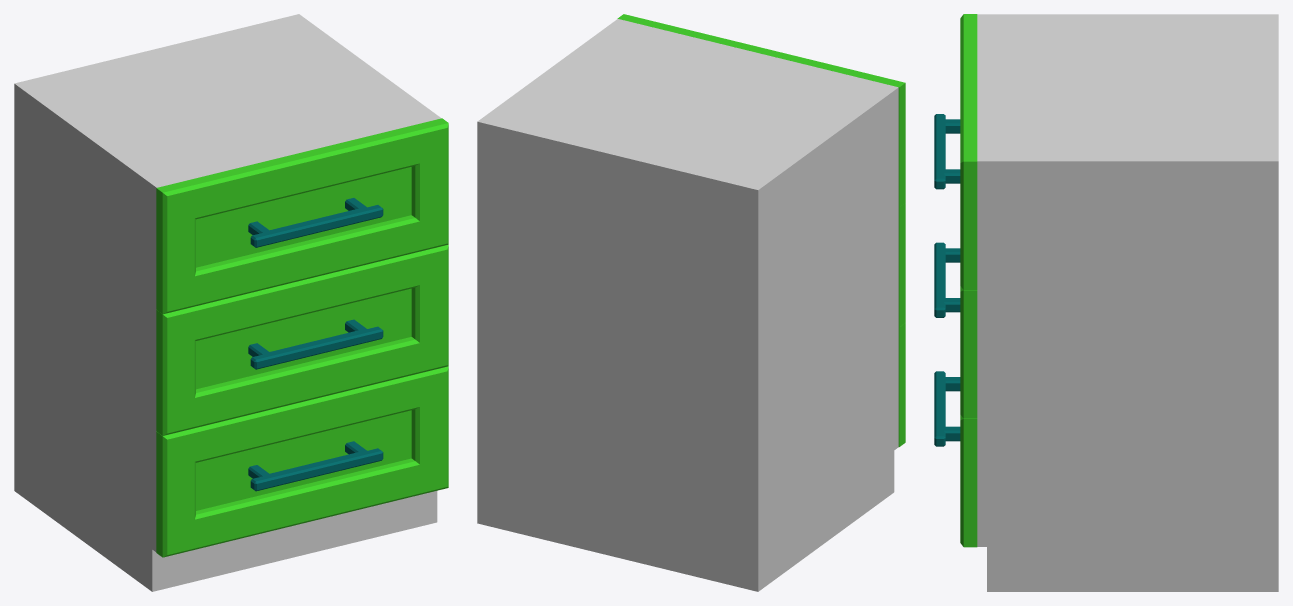
The model's file is Kitchen_Furniture_CounterWithDrawers.fbx.
3 renders of one model, left to right at view 1: azimuth 30°, elevation 25°; view 2: azimuth 150°, elevation 25°; view 3: azimuth 270°, elevation 25°, orthographic. The views are drawn at different scales.
Parts seen in each view (by area): view 1: Main_body, Top_drawer, Middle_drawer, Lower_drawer; view 2: Main_body, Top_drawer, Middle_drawer, Lower_drawer; view 3: Main_body, Top_drawer, Lower_drawer, Middle_drawer.
Boxes of the visible parts, <box> form: Main_body: <box>14,14,441,591</box>; Top_drawer: <box>156,118,448,314</box>; Middle_drawer: <box>156,244,448,435</box>; Lower_drawer: <box>156,366,448,557</box>; Main_body: <box>477,19,898,591</box>; Top_drawer: <box>617,14,905,207</box>; Middle_drawer: <box>898,203,905,327</box>; Lower_drawer: <box>898,323,905,446</box>; Main_body: <box>977,14,1278,591</box>; Top_drawer: <box>934,14,977,289</box>; Lower_drawer: <box>934,371,977,547</box>; Middle_drawer: <box>934,242,977,418</box>.
Size of the model in its own units: 60.22 by 82 by 59.44.
